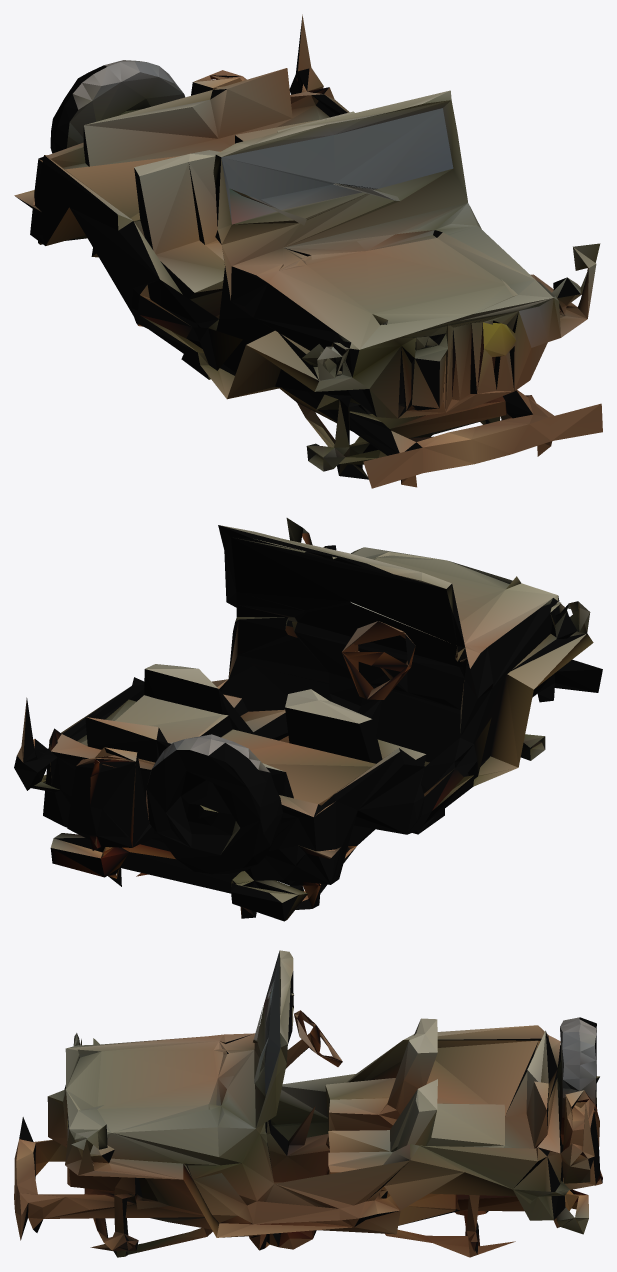
Rendered from willys_jeep_mb.glb.
The picture shows the model from 3 angles, top to bottom: view 1: azimuth 30°, elevation 25°; view 2: azimuth 150°, elevation 25°; view 3: azimuth 270°, elevation 25°; orthographic projection. The views are drawn at different scales.
Visible parts, largest first — view 1: Wreck_willys_jeep_mb; view 2: Wreck_willys_jeep_mb; view 3: Wreck_willys_jeep_mb.
Boxes of the visible parts, box(x1,y1,x2,y2) form: Wreck_willys_jeep_mb: box(14, 14, 602, 488); Wreck_willys_jeep_mb: box(14, 518, 602, 921); Wreck_willys_jeep_mb: box(14, 950, 602, 1257).
Bounding box in the file's own units: 1.8 × 1.44 × 3.35.
